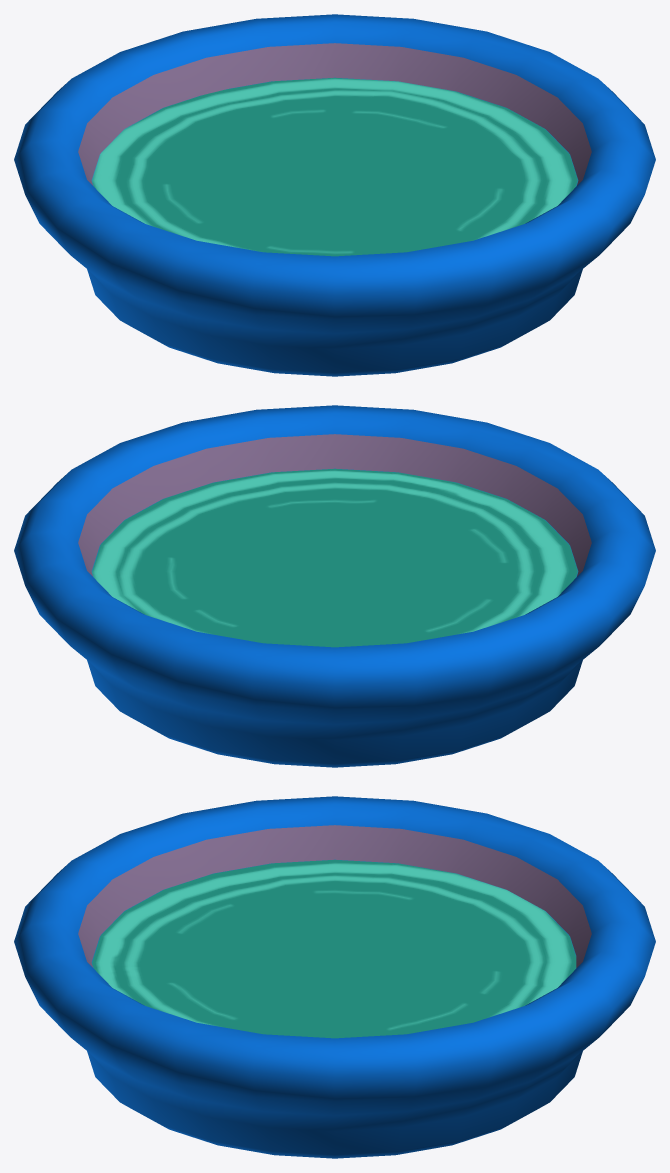
Rendered from Bowl_HP.fbx.
The picture shows the model from 3 angles, top to bottom: view 1: azimuth 30°, elevation 25°; view 2: azimuth 150°, elevation 25°; view 3: azimuth 270°, elevation 25°; orthographic projection.
Visible parts, largest first — view 1: bowl001; view 2: bowl001; view 3: bowl001.
Boxes of the visible parts, bbox=[...] form: bowl001: bbox=[14, 14, 655, 376]; bowl001: bbox=[14, 405, 655, 767]; bowl001: bbox=[14, 796, 655, 1158].
Bounding box in the file's own units: 0.5481 × 0.1299 × 0.5481.
1 material, 1 textured.
